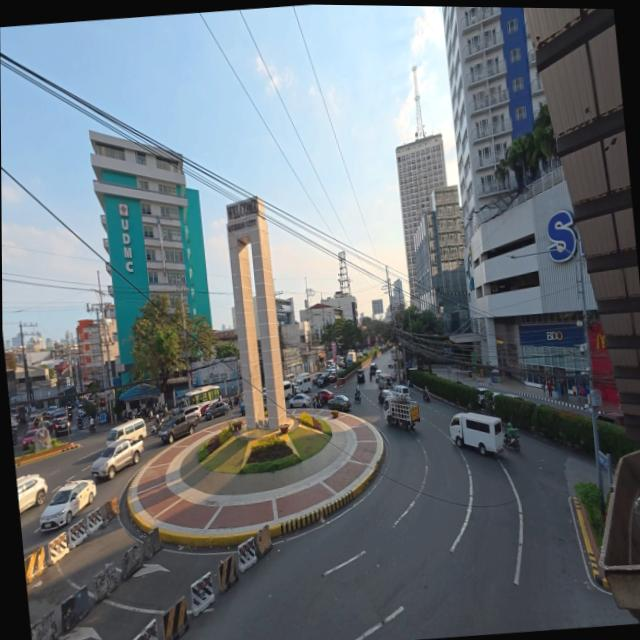car: (87, 438, 144, 483), (155, 411, 199, 445)
